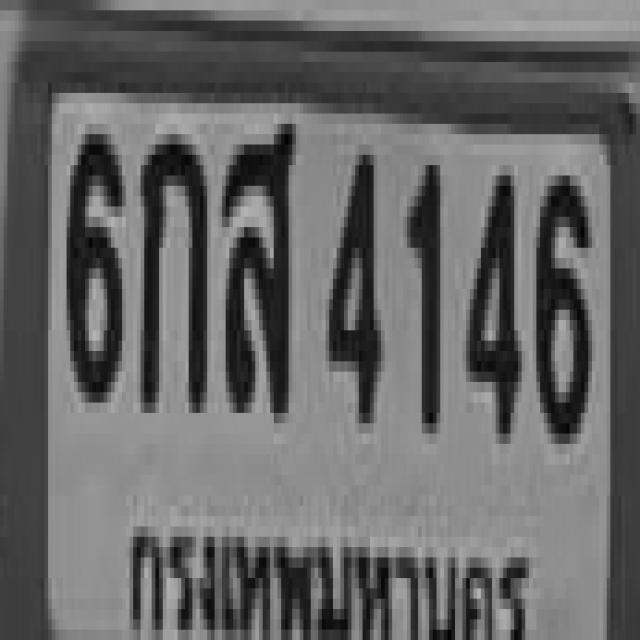1: (403, 155, 437, 423)
10GorGai: (137, 124, 203, 402)
4: (462, 160, 518, 428), (326, 144, 378, 413)
49SorSuea: (218, 113, 292, 413)
6: (533, 165, 588, 434), (63, 124, 118, 392)
Bangkok: (124, 491, 535, 640)
